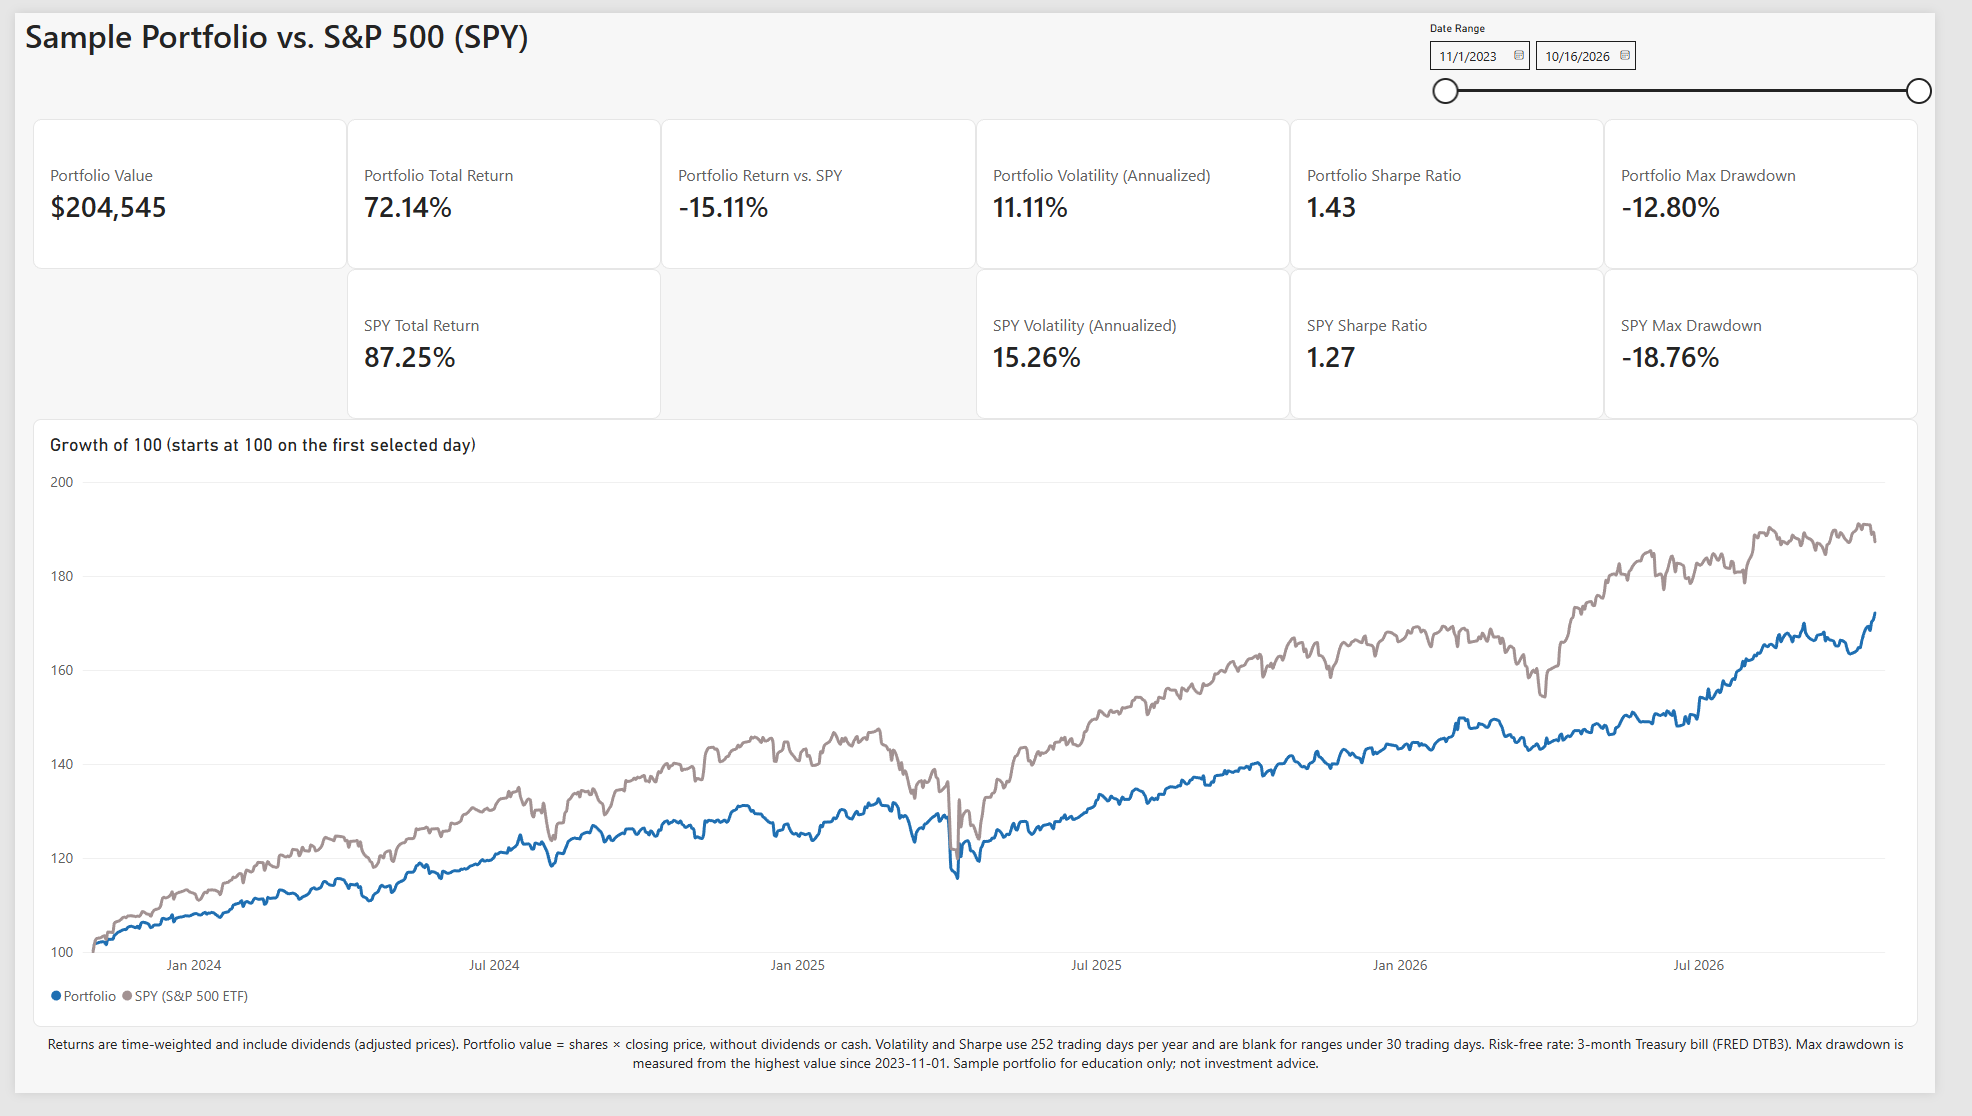

This screenshot's page, from the dashboard's own definition file:
{"tool":"powerbi","page":{"name":"Executive Summary","canvas":[1920,1080],"ordinal":0},"visuals":[{"type":"textbox","box":[10.3,0,519,46.5],"z":0},{"type":"slicer","fields":{"Values":["dim_date.date_key"]},"box":[1406.6,8.8,513.4,97.2],"z":1000},{"type":"cardVisual","fields":{"Data":["_Measures.Portfolio Value Label"]},"box":[18,106,314,150],"z":2000},{"type":"cardVisual","fields":{"Data":["_Measures.Total Return"]},"box":[332,106,314.3,149.9],"z":3000},{"type":"cardVisual","fields":{"Data":["_Measures.Excess Return Total"]},"box":[646.2,106.5,314.3,149.9],"z":4000},{"type":"cardVisual","fields":{"Data":["_Measures.Annualized Volatility"]},"box":[960.5,106.5,314.3,149.9],"z":5000},{"type":"cardVisual","fields":{"Data":["_Measures.Sharpe Ratio"]},"box":[1274.8,106.5,314.3,149.9],"z":6000},{"type":"cardVisual","fields":{"Data":["_Measures.Max Drawdown"]},"box":[1589.1,106.5,314.3,149.9],"z":7000},{"type":"cardVisual","fields":{"Data":["_Measures.Total Return SPY"]},"box":[332,256,314.3,149.9],"z":8000},{"type":"cardVisual","fields":{"Data":["_Measures.Annualized Volatility SPY"]},"box":[960.5,256.4,314.3,149.9],"z":9000},{"type":"cardVisual","fields":{"Data":["_Measures.Sharpe Ratio SPY"]},"box":[1274.8,256.4,314.3,149.9],"z":10000},{"type":"cardVisual","fields":{"Data":["_Measures.Max Drawdown SPY"]},"box":[1589.1,256.4,314.3,149.9],"z":11000},{"type":"lineChart","title":"Growth of 100 (starts at 100 on the first selected day)","fields":{"Category":["dim_date.date_key"],"Y":["_Measures.Index Rebased","_Measures.Index Rebased SPY"]},"box":[17.7,406.4,1885.6,607.6],"z":12000},{"type":"textbox","box":[18,1021,1885,59],"z":13000}]}

Visuals, with their boxes in screenshot pixels (x1, y1, x2, y2), scaled from the page's 1920x1080 canvas onto the 1972x1116 screenshot:
textbox: box=[11, 0, 544, 48]
slicer - dim_date.date_key: box=[1445, 9, 1971, 110]
cardVisual - _Measures.Portfolio Value Label: box=[18, 110, 341, 265]
cardVisual - _Measures.Total Return: box=[341, 110, 664, 264]
cardVisual - _Measures.Excess Return Total: box=[664, 110, 987, 265]
cardVisual - _Measures.Annualized Volatility: box=[987, 110, 1309, 265]
cardVisual - _Measures.Sharpe Ratio: box=[1309, 110, 1632, 265]
cardVisual - _Measures.Max Drawdown: box=[1632, 110, 1955, 265]
cardVisual - _Measures.Total Return SPY: box=[341, 265, 664, 419]
cardVisual - _Measures.Annualized Volatility SPY: box=[987, 265, 1309, 420]
cardVisual - _Measures.Sharpe Ratio SPY: box=[1309, 265, 1632, 420]
cardVisual - _Measures.Max Drawdown SPY: box=[1632, 265, 1955, 420]
"Growth of 100 (starts at 100 on the first selected day)" lineChart: box=[18, 420, 1955, 1048]
textbox: box=[18, 1055, 1955, 1115]
